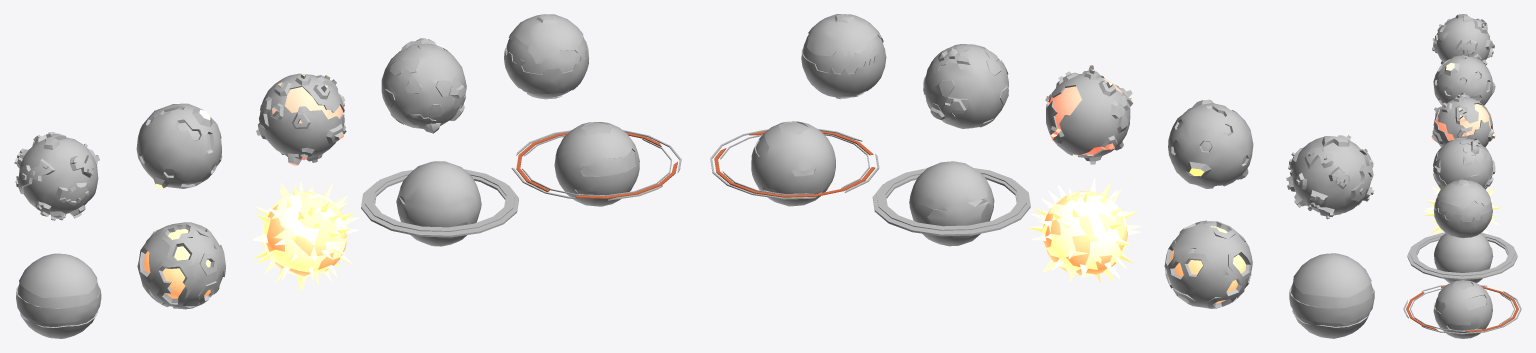
The model's file is ToyPlanets.fbx.
3 renders of one model, left to right at view 1: azimuth 30°, elevation 25°; view 2: azimuth 150°, elevation 25°; view 3: azimuth 270°, elevation 25°, orthographic. The views are drawn at different scales.
Visible parts, largest first — view 1: Toy_Planet_8, Toy_Planet_3, Toy_Planet_4, Toy_Planet_7, Toy_Planet_2, Toy_Planet_6, Toy_Planet_5, Toy_Planet_1, Toy_Planet_10, Toy_Planet_9, Toy_Planet_9_Rings, Toy_Planet_10_Rings; view 2: Toy_Planet_8, Toy_Planet_7, Toy_Planet_3, Toy_Planet_2, Toy_Planet_4, Toy_Planet_6, Toy_Planet_5, Toy_Planet_1, Toy_Planet_10, Toy_Planet_9, Toy_Planet_9_Rings, Toy_Planet_10_Rings; view 3: Toy_Planet_5, Toy_Planet_10, Toy_Planet_4, Toy_Planet_3, Toy_Planet_2, Toy_Planet_1, Toy_Planet_9, Toy_Planet_9_Rings, Toy_Planet_10_Rings, Toy_Planet_8.
Part boxes in pixels (x1,y1,x2,y2): Toy_Planet_8: [252, 182, 359, 290]; Toy_Planet_3: [256, 73, 346, 165]; Toy_Planet_4: [381, 38, 466, 133]; Toy_Planet_7: [137, 222, 225, 309]; Toy_Planet_2: [136, 103, 222, 188]; Toy_Planet_6: [16, 253, 101, 338]; Toy_Planet_5: [504, 14, 589, 99]; Toy_Planet_1: [14, 132, 99, 220]; Toy_Planet_10: [554, 122, 639, 206]; Toy_Planet_9: [396, 161, 481, 246]; Toy_Planet_9_Rings: [361, 169, 518, 237]; Toy_Planet_10_Rings: [511, 130, 681, 200]; Toy_Planet_8: [1028, 178, 1141, 282]; Toy_Planet_7: [1164, 220, 1252, 308]; Toy_Planet_3: [1045, 65, 1132, 164]; Toy_Planet_2: [1168, 99, 1253, 188]; Toy_Planet_4: [923, 44, 1008, 128]; Toy_Planet_6: [1289, 253, 1374, 338]; Toy_Planet_5: [801, 14, 886, 99]; Toy_Planet_1: [1286, 135, 1374, 219]; Toy_Planet_10: [751, 121, 835, 206]; Toy_Planet_9: [909, 161, 994, 246]; Toy_Planet_9_Rings: [872, 168, 1030, 236]; Toy_Planet_10_Rings: [710, 128, 879, 199]; Toy_Planet_5: [1433, 179, 1492, 238]; Toy_Planet_10: [1433, 280, 1492, 338]; Toy_Planet_4: [1433, 138, 1495, 189]; Toy_Planet_3: [1431, 92, 1495, 146]; Toy_Planet_2: [1433, 55, 1495, 105]; Toy_Planet_1: [1432, 14, 1494, 65]; Toy_Planet_9: [1434, 233, 1493, 282]; Toy_Planet_9_Rings: [1407, 232, 1517, 279]; Toy_Planet_10_Rings: [1403, 285, 1521, 334]; Toy_Planet_8: [1423, 186, 1501, 234].
Bounding box in the file's own units: 1760 × 550 × 400.
